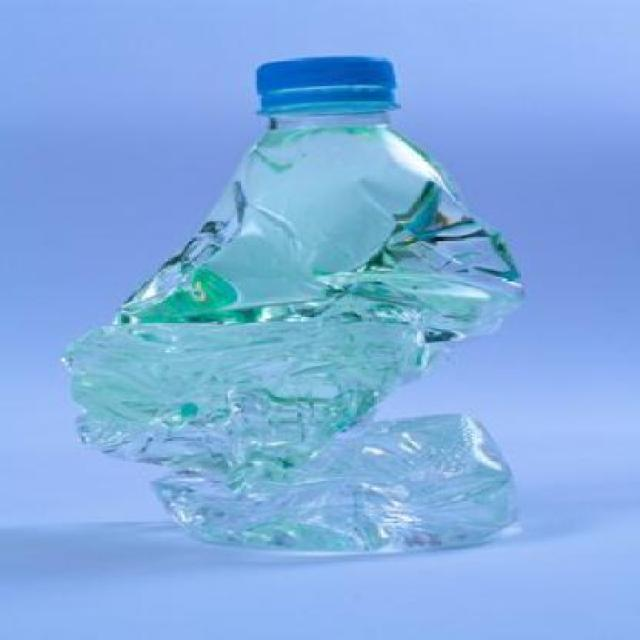bottle: (33, 29, 550, 565)
